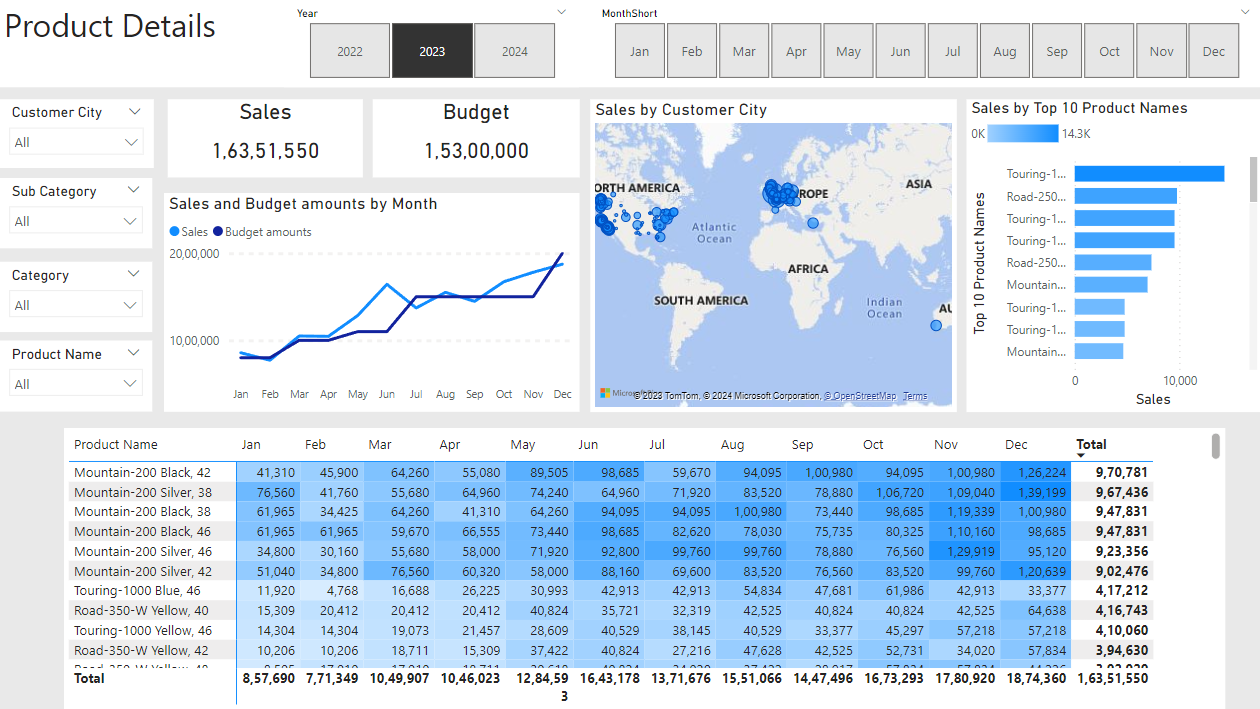

The dashboard page shown, as its layout file describes it:
{"tool":"powerbi","page":{"name":"Product Details","canvas":[1280,720],"ordinal":2},"visuals":[{"type":"textbox","box":[0,0,1280,90.2],"z":0},{"type":"slicer","fields":{"Values":["DIM_Product_Cleaned.Sub Category"]},"box":[0,182.1,155.2,70.9],"z":1000},{"type":"slicer","fields":{"Values":["DIM_Product_Cleaned.Product Category"]},"box":[0,266.5,155.2,70.9],"z":2000},{"type":"slicer","fields":{"Values":["DIM_Product_Cleaned.Product Name"]},"box":[0,347.2,155.2,72.1],"z":3000},{"type":"slicer","fields":{"Values":["DIM_Calendar_cleaned.MonthShort"]},"box":[597.9,0,682.1,89.8],"z":4000},{"type":"slicer","fields":{"Values":["DIM_Customer_cleaned.Customer City"]},"box":[0,102.7,156.5,69.7],"z":5000},{"type":"slicer","fields":{"Values":["DIM_Calendar_cleaned.Date.Variation.Date Hierarchy.Year"]},"box":[289.2,0,298.4,90.2],"z":6000},{"type":"lineChart","fields":{"Category":["DIM_Calendar_cleaned.MonthShort"],"Y":["Key measures.Sales","Key measures.Budget amounts"]},"box":[167.1,197.6,420.5,221.5],"z":7000},{"type":"barChart","fields":{"Category":["DIM_Product_Cleaned.Product Name"],"Y":["Key measures.Sales"]},"box":[980.2,102.1,299.8,317],"z":8000},{"type":"map","fields":{"Category":["DIM_Customer_cleaned.Customer City"],"Size":["Key measures.Sales"]},"box":[598.2,102.1,371.4,317],"z":9000},{"type":"card","title":"Sales","fields":{"Values":["Key measures.Sales"]},"box":[171.1,102.1,197.6,79.6],"z":10000},{"type":"card","title":"Budget","fields":{"Values":["Sum(FACT_Budget.Budget)"]},"box":[378,102.1,209.6,79.6],"z":11000},{"type":"pivotTable","fields":{"Values":["Key measures.Sales"],"Columns":["DIM_Calendar_cleaned.MonthShort"],"Rows":["DIM_Product_Cleaned.Product Name"]},"box":[66,435.2,1176,284.8],"z":12000}]}

Visuals, with their boxes in screenshot pixels (x1, y1, x2, y2), scaled from the page's 1280x720 canvas onto the 1260x709 screenshot:
textbox: box(0, 0, 1259, 89)
slicer - DIM_Product_Cleaned.Sub Category: box(0, 179, 153, 249)
slicer - DIM_Product_Cleaned.Product Category: box(0, 262, 153, 332)
slicer - DIM_Product_Cleaned.Product Name: box(0, 342, 153, 413)
slicer - DIM_Calendar_cleaned.MonthShort: box(589, 0, 1259, 88)
slicer - DIM_Customer_cleaned.Customer City: box(0, 101, 154, 170)
slicer - DIM_Calendar_cleaned.Date.Variation.Date Hierarchy.Year: box(285, 0, 578, 89)
lineChart - DIM_Calendar_cleaned.MonthShort x Key measures.Sales: box(164, 195, 578, 413)
barChart - DIM_Product_Cleaned.Product Name x Key measures.Sales: box(965, 101, 1259, 413)
map - DIM_Customer_cleaned.Customer City x Key measures.Sales: box(589, 101, 954, 413)
"Sales" card: box(168, 101, 363, 179)
"Budget" card: box(372, 101, 578, 179)
pivotTable - Key measures.Sales x DIM_Calendar_cleaned.MonthShort: box(65, 429, 1223, 708)
